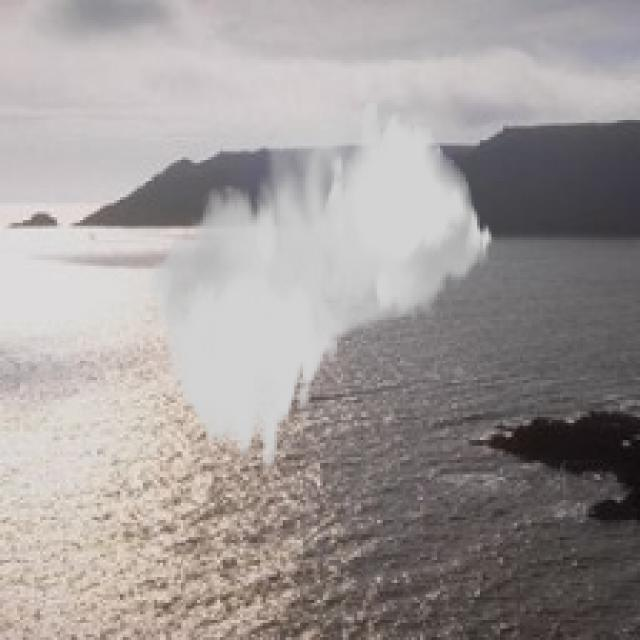smoke: (149, 100, 494, 469)
